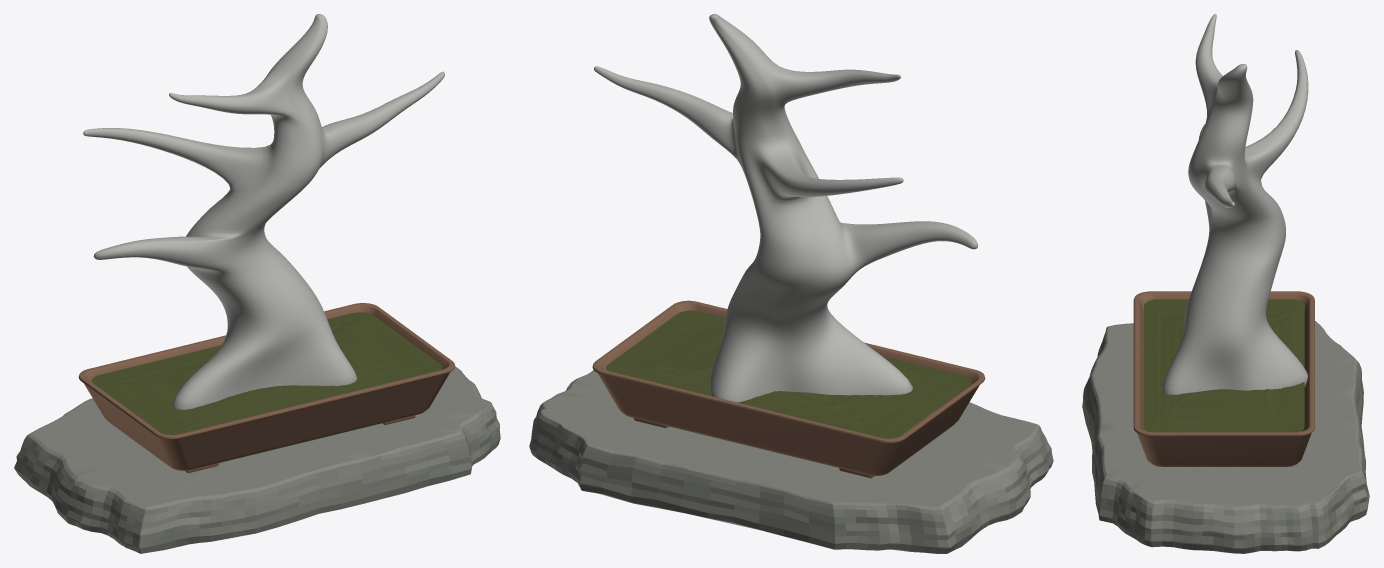
Rendered from cage-v06.glb.
The picture shows the model from 3 angles, left to right: view 1: azimuth 30°, elevation 25°; view 2: azimuth 150°, elevation 25°; view 3: azimuth 270°, elevation 25°; orthographic projection. The views are drawn at different scales.
Parts seen in each view (by area): view 1: Low split natural bedding stone, Continuous aged trunk and primary branches, Shallow unglazed pot, Continuous planted soil; view 2: Low split natural bedding stone, Continuous aged trunk and primary branches, Shallow unglazed pot, Continuous planted soil; view 3: Low split natural bedding stone, Continuous aged trunk and primary branches, Continuous planted soil, Shallow unglazed pot.
Boxes of the visible parts, box(x1,y1,x2,y2) form: Low split natural bedding stone: box(14, 366, 500, 553); Continuous aged trunk and primary branches: box(83, 14, 444, 409); Shallow unglazed pot: box(78, 303, 455, 470); Continuous planted soil: box(91, 312, 442, 434); Low split natural bedding stone: box(529, 370, 1053, 553); Continuous aged trunk and primary branches: box(594, 14, 977, 402); Shallow unglazed pot: box(592, 300, 985, 475); Continuous planted soil: box(606, 310, 971, 438); Low split natural bedding stone: box(1082, 321, 1369, 553); Continuous aged trunk and primary branches: box(1161, 14, 1308, 394); Continuous planted soil: box(1144, 299, 1304, 432); Shallow unglazed pot: box(1133, 291, 1314, 466).
Size of the model in its own units: 2.28 by 2.2 by 1.36.
